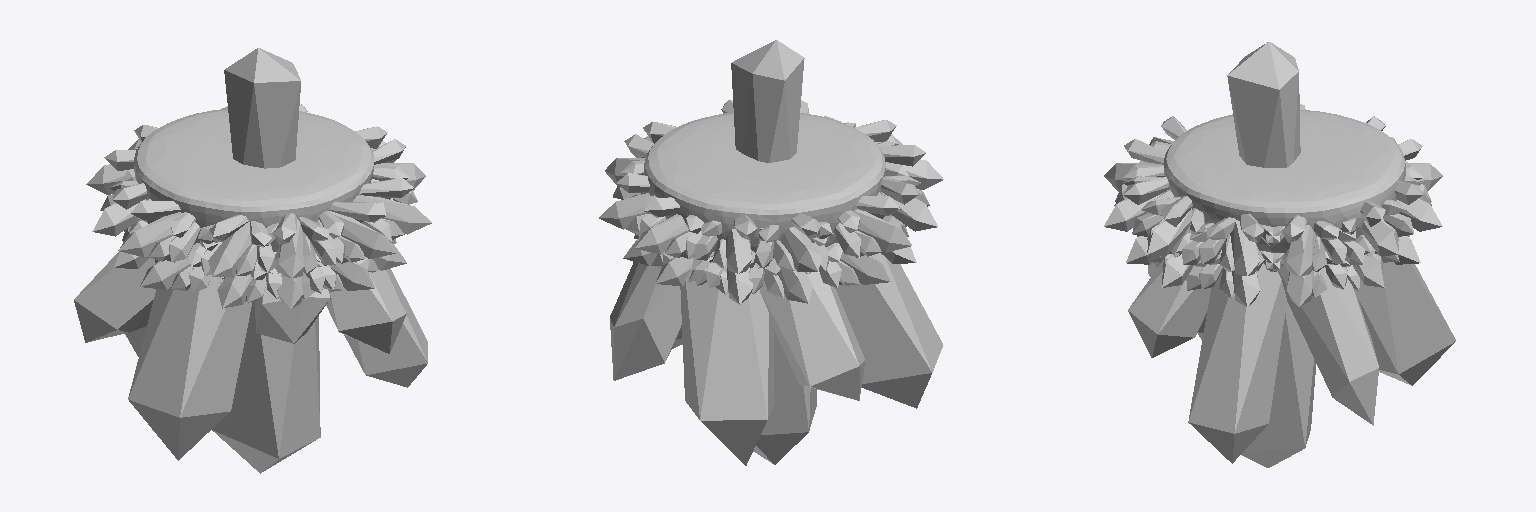
Rendered from project.obj.
3 renders of one model, left to right at view 1: azimuth 30°, elevation 25°; view 2: azimuth 150°, elevation 25°; view 3: azimuth 270°, elevation 25°, orthographic.
Parts seen in each view (by area): view 1: Icosphere, Icosphere.033_Icosphere.034, Icosphere.032_Icosphere.033, Icosphere.025_Icosphere.002, Icosphere.039_Icosphere.040, Icosphere.035_Icosphere.036, Icosphere.034_Icosphere.035, Icosphere.014_Icosphere.003, Icosphere.014_Icosphere.001, Icosphere.036_Icosphere.037, Icosphere.014_Icosphere.007, Icosphere.015_Icosphere.001 (+14 smaller); view 2: Icosphere, Icosphere.037_Icosphere.038, Icosphere.033_Icosphere.034, Icosphere.039_Icosphere.040, Icosphere.025_Icosphere.002, Icosphere.038_Icosphere.039, Icosphere.032_Icosphere.033, Icosphere.014_Icosphere.003, Icosphere.014_Icosphere.001, Icosphere.014_Icosphere.007, Icosphere.015_Icosphere.001, Icosphere.015_Icosphere.003 (+12 smaller); view 3: Icosphere, Icosphere.034_Icosphere.035, Icosphere.037_Icosphere.038, Icosphere.038_Icosphere.039, Icosphere.025_Icosphere.002, Icosphere.032_Icosphere.033, Icosphere.035_Icosphere.036, Icosphere.014_Icosphere.007, Icosphere.015_Icosphere.007, Icosphere.014_Icosphere.001, Icosphere.014_Icosphere.003, Icosphere.015_Icosphere.003 (+13 smaller).
Part boxes in pixels (x1,y1,x2,y2): Icosphere: (134,109,374,251); Icosphere.033_Icosphere.034: (128,276,251,460); Icosphere.032_Icosphere.033: (212,302,320,473); Icosphere.025_Icosphere.002: (224,48,300,168); Icosphere.039_Icosphere.040: (74,251,155,342); Icosphere.035_Icosphere.036: (326,270,406,353); Icosphere.034_Icosphere.035: (344,268,427,387); Icosphere.014_Icosphere.003: (86,164,431,276); Icosphere.014_Icosphere.001: (92,141,425,257); Icosphere.036_Icosphere.037: (255,285,330,343); Icosphere.014_Icosphere.007: (128,139,395,278); Icosphere.015_Icosphere.001: (112,126,405,220); Icosphere: (644,112,885,257); Icosphere.037_Icosphere.038: (680,257,774,465); Icosphere.033_Icosphere.034: (835,253,942,408); Icosphere.039_Icosphere.040: (759,271,864,400); Icosphere.025_Icosphere.002: (731,40,804,162); Icosphere.038_Icosphere.039: (610,262,681,380); Icosphere.032_Icosphere.033: (753,328,816,464); Icosphere.014_Icosphere.003: (599,159,943,271); Icosphere.014_Icosphere.001: (605,136,937,252); Icosphere.014_Icosphere.007: (634,134,902,273); Icosphere.015_Icosphere.001: (624,122,917,215); Icosphere.015_Icosphere.003: (616,100,925,237); Icosphere: (1164,110,1405,253); Icosphere.034_Icosphere.035: (1188,264,1286,463); Icosphere.037_Icosphere.038: (1355,262,1455,385); Icosphere.038_Icosphere.039: (1277,263,1378,425); Icosphere.025_Icosphere.002: (1227,42,1300,167); Icosphere.032_Icosphere.033: (1241,302,1315,467); Icosphere.035_Icosphere.036: (1128,260,1210,357); Icosphere.014_Icosphere.007: (1104,163,1442,231); Icosphere.015_Icosphere.007: (1124,139,1422,204); Icosphere.014_Icosphere.001: (1230,220,1315,276); Icosphere.014_Icosphere.003: (1147,137,1399,255); Icosphere.015_Icosphere.003: (1161,116,1385,226).
Size of the model in its own units: 3.57 by 4.72 by 3.54.